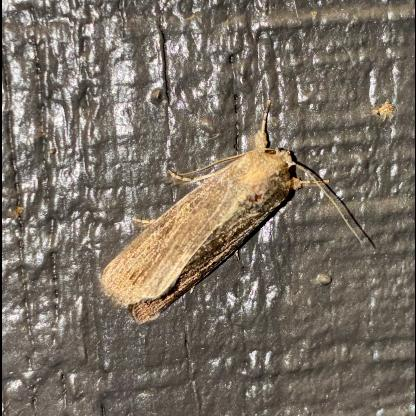Fall Armyworm Moth: (98, 97, 366, 329)
